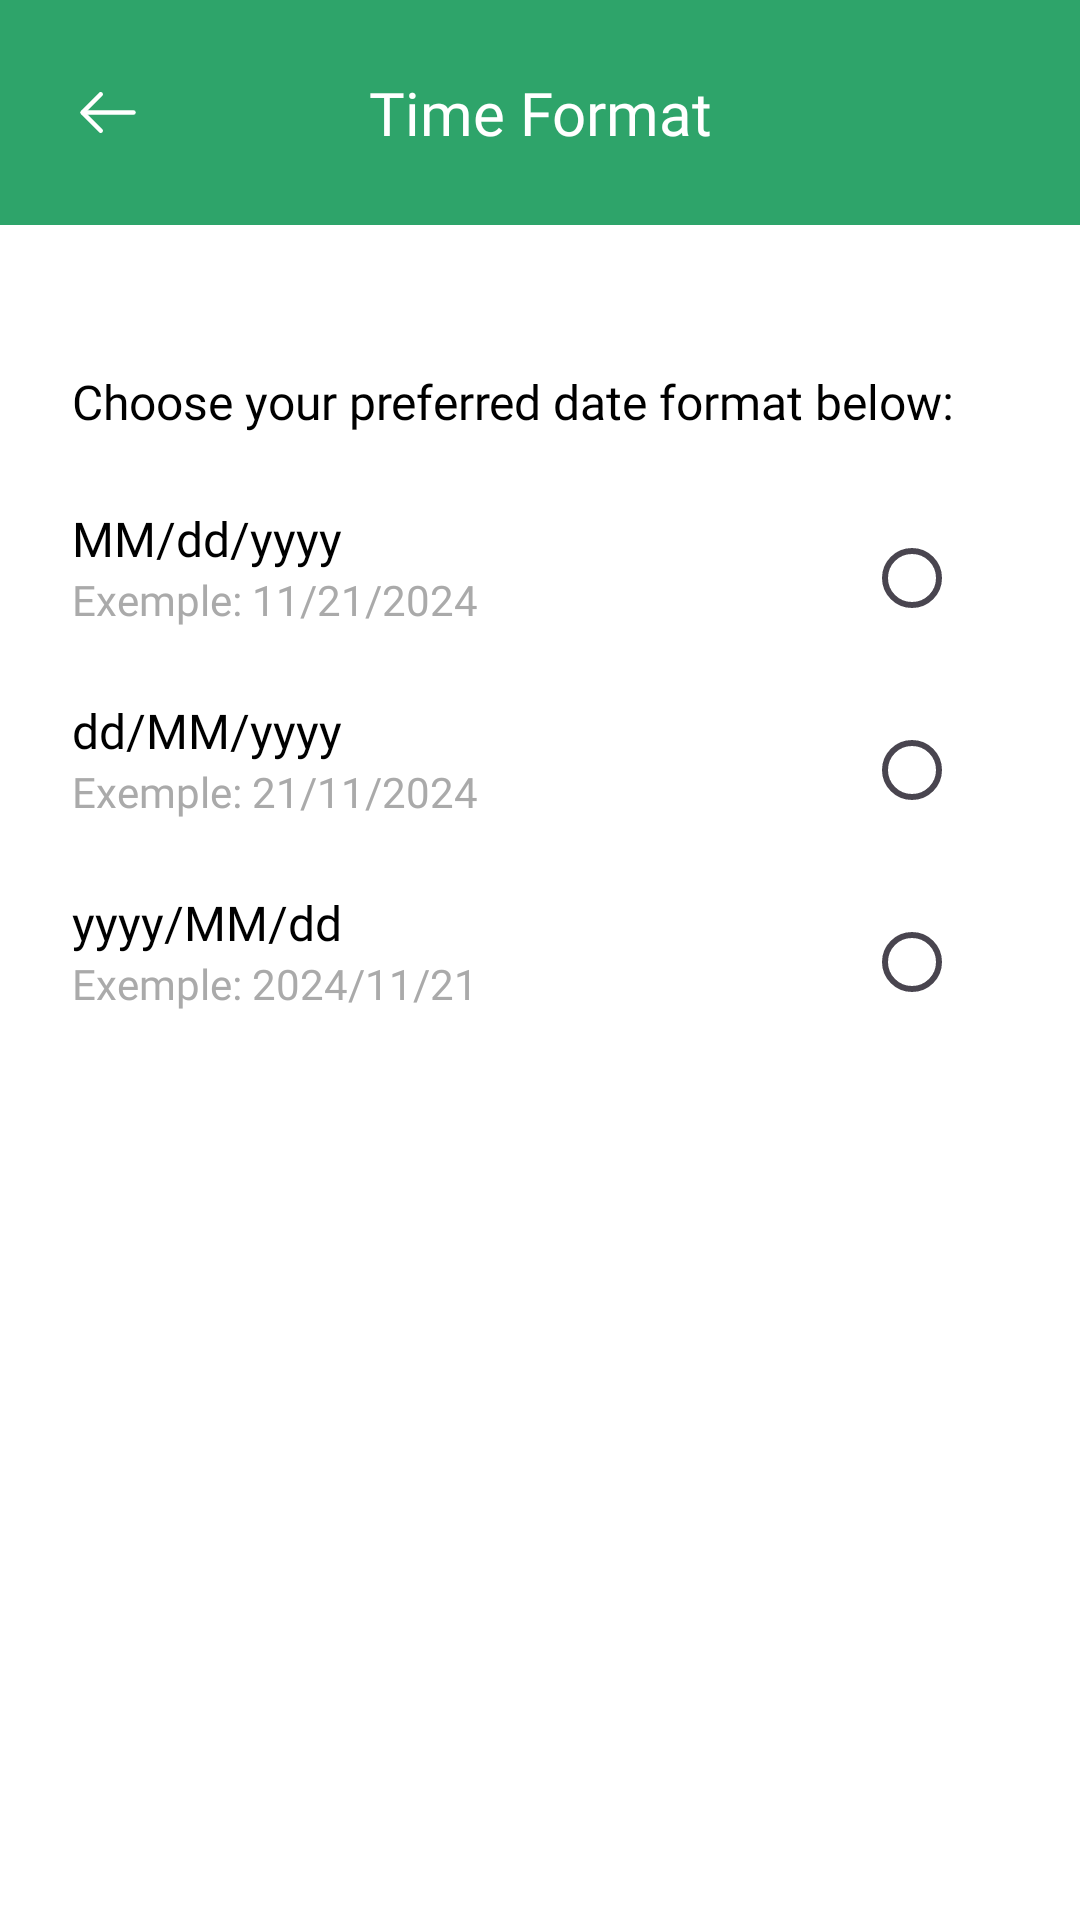

Screen size 1080×1920. Icon name, then its center in pixels as point (x, y):
arrow: point (108, 112)
